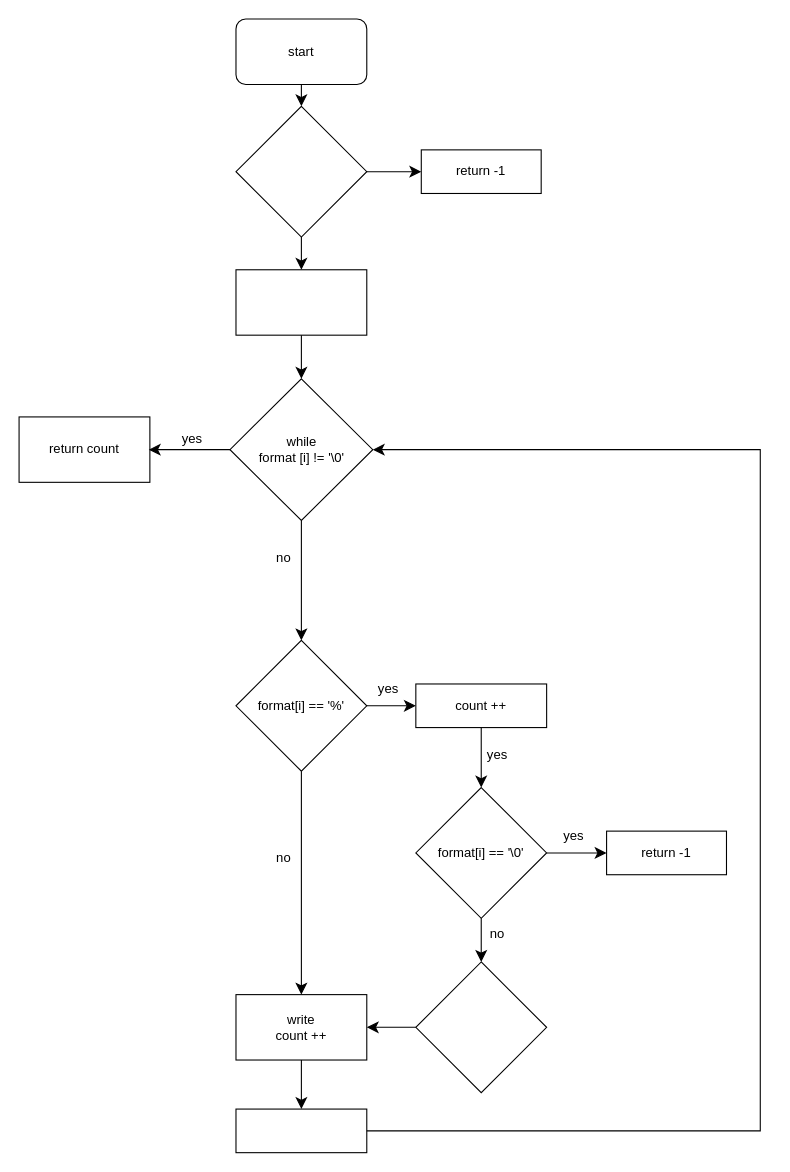
The diagram is 790 pixels wide and 1172 high, and some of its shapes have lost their labels. The shapes that lost their labels are listed below. From the top down, each one's centre as x and y in pixels, then its label:
pixel 301 171: format == NULL
pixel 301 302: va_star(args)
pixel 481 1027: format[i] == 's or c or d or ....'
pixel 301 1130: i++
